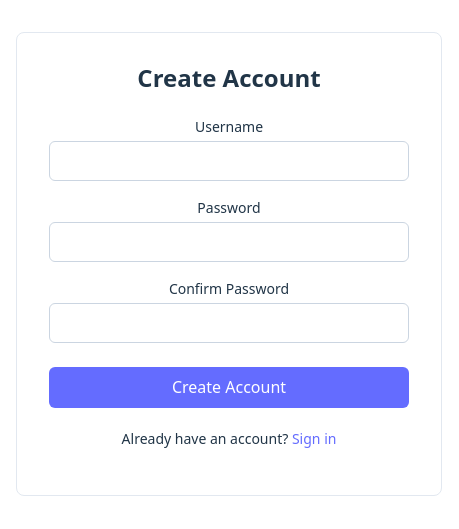
Scenario: RegisterView — behaviour › shows validation detail on 422
In the field with id "username": point(229, 161) [49,141,409,181], type "u"
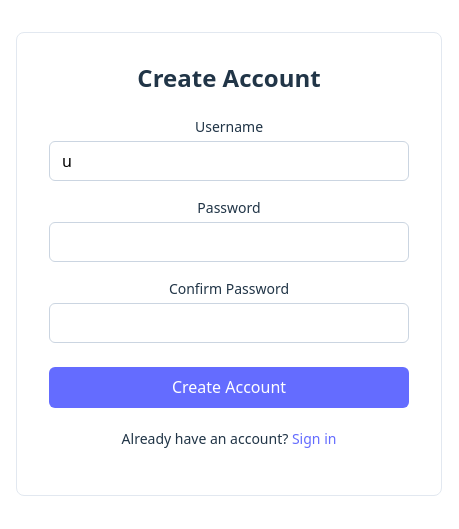
In the password field labelled "Password": point(229, 242) [49,222,409,262], type "short"
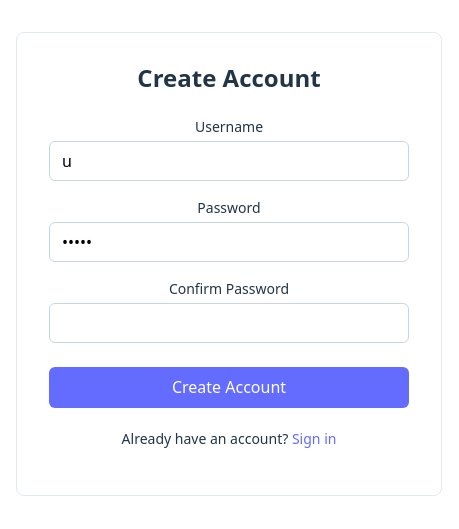
In the password field with id "confirm-password": point(229, 323) [49,303,409,343], type "short"
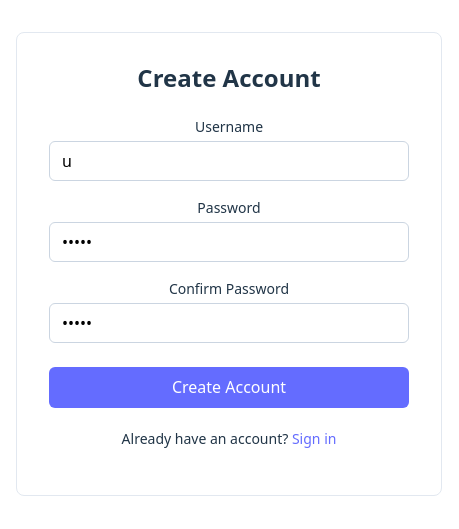
Submit the form, box [49,116,409,408]
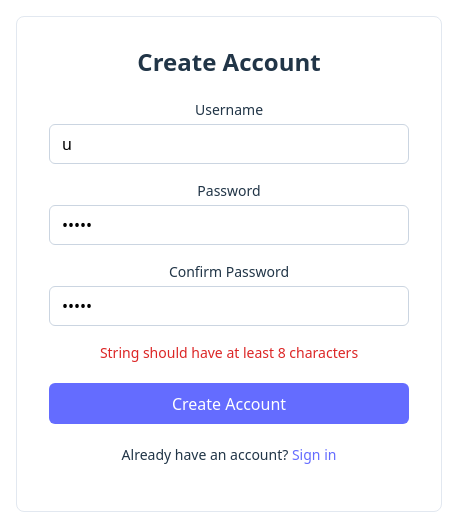
Now the text with class "error" reads "String should have at least 8 characters", box [100,343,358,362]
